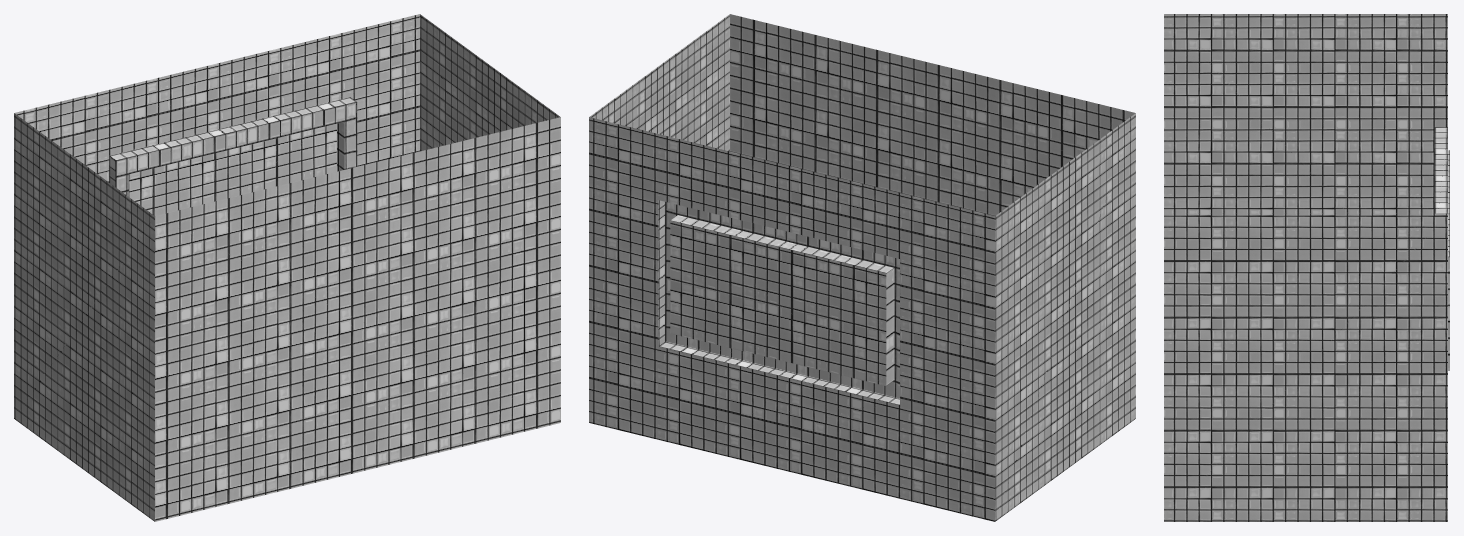
The model's file is wall_based_pnbmk_wall.obj.
The picture shows the model from 3 angles, left to right: view 1: azimuth 30°, elevation 25°; view 2: azimuth 150°, elevation 25°; view 3: azimuth 270°, elevation 25°; orthographic projection.
Parts seen in each view (by area): view 1: pnbmk_box.001_Cube.011; view 2: pnbmk_box.001_Cube.011; view 3: pnbmk_box.001_Cube.011.
Part boxes in pixels (x1=…): pnbmk_box.001_Cube.011: x1=14, y1=14, x2=560, y2=521; pnbmk_box.001_Cube.011: x1=589, y1=14, x2=1135, y2=521; pnbmk_box.001_Cube.011: x1=1164, y1=14, x2=1449, y2=521.
Size of the model in its own units: 3.98 by 2.86 by 2.4.
